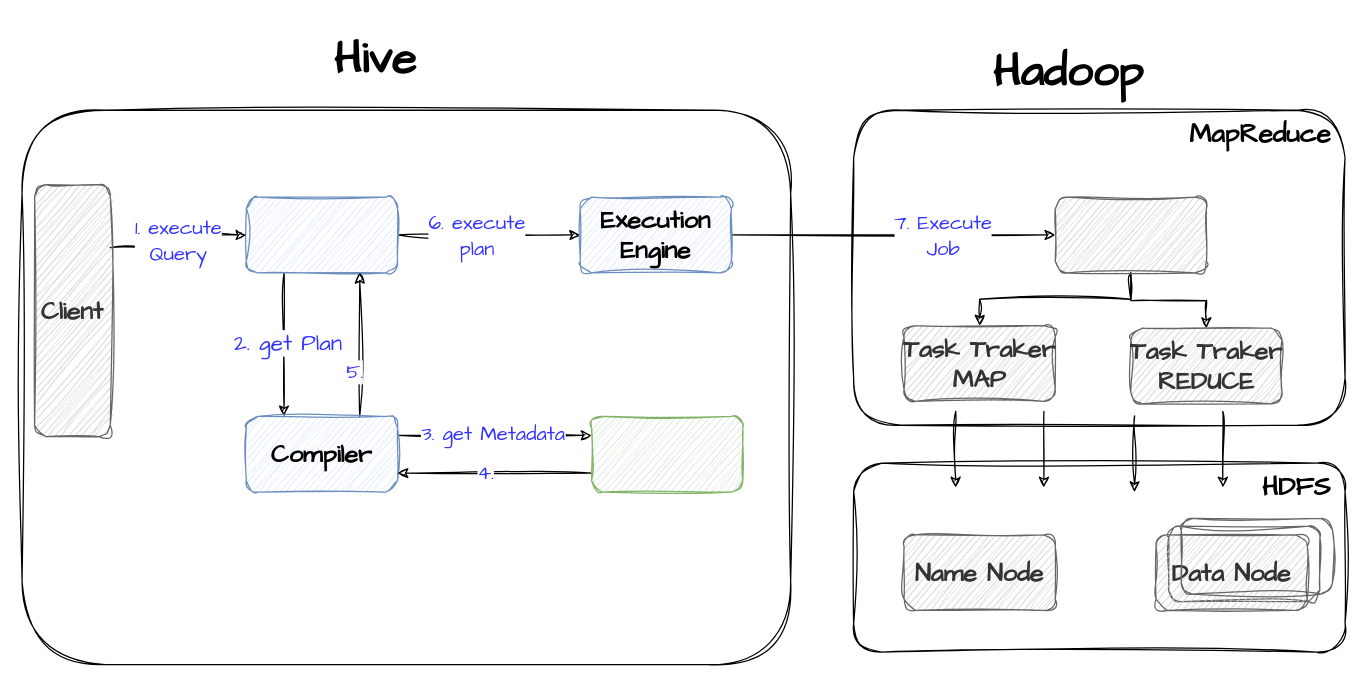
Some shapes in this 1367 by 687 pixel diagram are drawn without their labels. The shapes that lost their labels are listed below. From the top down, each one's centre as x and y in pixels, then its label:
the point at 321,234: Driver
the point at 1130,234: Job Tracker
the point at 666,453: Metastore
